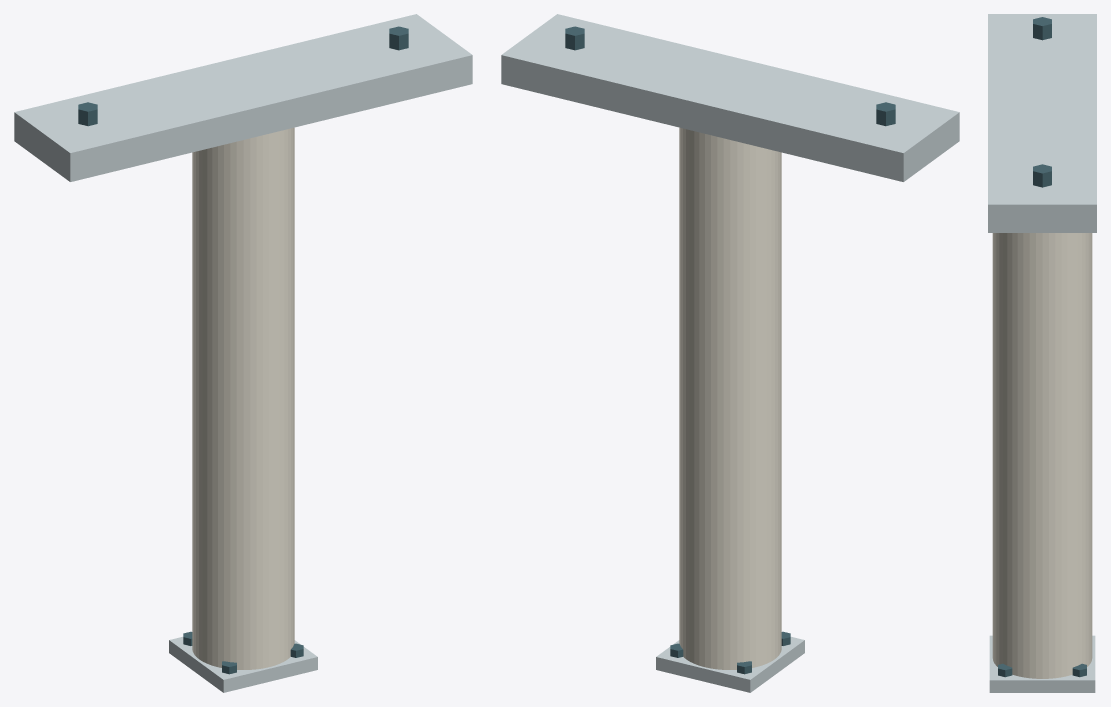
The model's file is waterpark-and-pool-operations-waterpark-and-pool-opera-d31c7a97__28959.glb.
The picture shows the model from 3 angles, left to right: view 1: azimuth 30°, elevation 25°; view 2: azimuth 150°, elevation 25°; view 3: azimuth 270°, elevation 25°; orthographic projection. The views are drawn at different scales.
Parts seen in each view (by area): view 1: waterpark-and-pool-operations-slide-support-column; view 2: waterpark-and-pool-operations-slide-support-column; view 3: waterpark-and-pool-operations-slide-support-column.
Part boxes in pixels (x1,y1,x2,y2): waterpark-and-pool-operations-slide-support-column: (14, 14, 472, 692); waterpark-and-pool-operations-slide-support-column: (501, 14, 959, 692); waterpark-and-pool-operations-slide-support-column: (988, 14, 1096, 692).
Size of the model in its own units: 1.45 by 2.04 by 0.3501.
